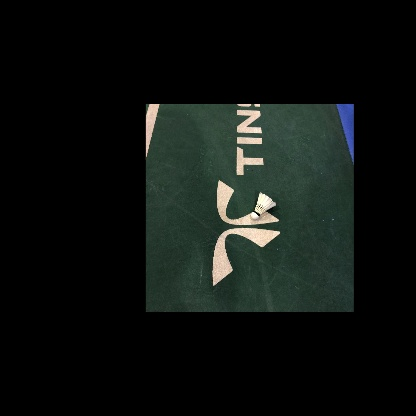ball_single: (251, 192, 276, 220)
